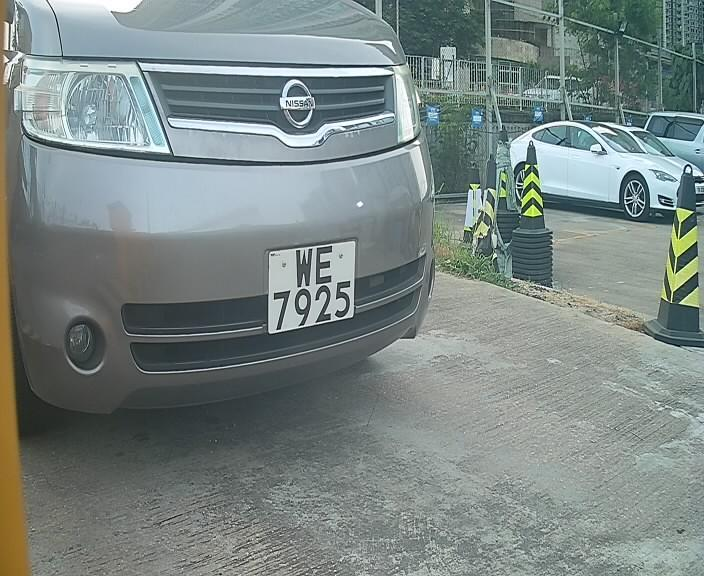privatecar: (7, 3, 447, 422)
